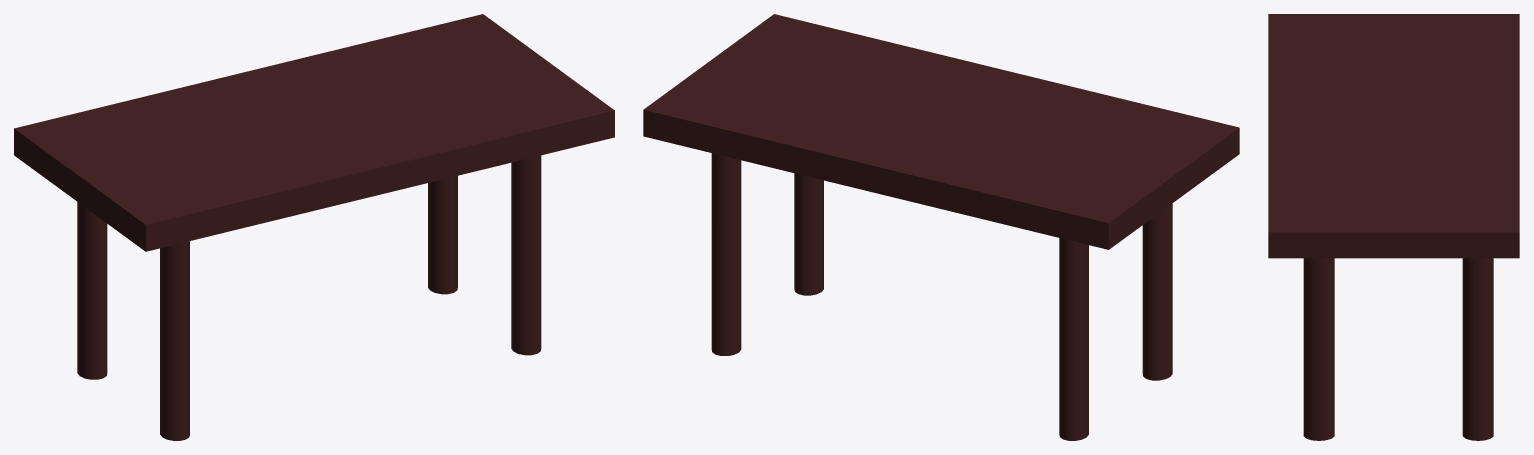
Rendered from Desk.FBX.
The picture shows the model from 3 angles, left to right: view 1: azimuth 30°, elevation 25°; view 2: azimuth 150°, elevation 25°; view 3: azimuth 270°, elevation 25°; orthographic projection. The views are drawn at different scales.
Parts seen in each view (by area): view 1: Desk; view 2: Desk; view 3: Desk.
Boxes of the visible parts, x1,y1,x2,y2 form: Desk: (14, 14, 614, 440); Desk: (643, 14, 1239, 440); Desk: (1268, 14, 1519, 440).
Bounding box in the file's own units: 40.26 × 19.89 × 19.6.
